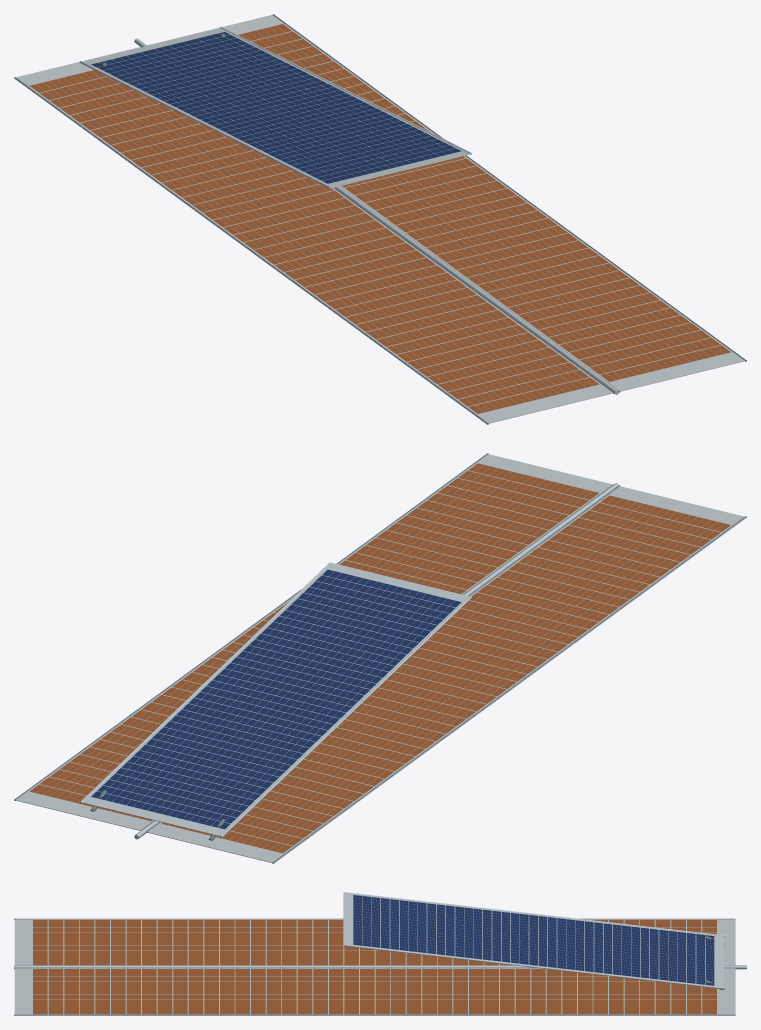
File: iss_arrays.p6_alpha_joint.wing_forward.glb
3 views of the same model, one above another, from view 1: azimuth 30°, elevation 25°; view 2: azimuth 150°, elevation 25°; view 3: azimuth 270°, elevation 25° (orthographic). The views are drawn at different scales.
Parts seen in each view (by area): view 1: iss_arrays.p6_alpha_joint.wing_forward.blanket_l.cells.mesh_ (×2), iss_arrays.p6_alpha_joint.wing_forward.blanket_r.cells.mesh_ (×2), iss_arrays.p6_alpha_joint.wing_forward.irosa.cells.mesh_Indi, iss_arrays.p6_alpha_joint.wing_forward.irosa.cells.mesh_Sati, iss_arrays.p6_alpha_joint.wing_forward.blanket_l.mesh_Machin, iss_arrays.p6_alpha_joint.wing_forward.mesh_Satin_aluminum, iss_arrays.p6_alpha_joint.wing_forward.irosa.mesh_Satin_alum, iss_arrays.p6_alpha_joint.wing_forward.blanket_r.mesh_Machin; view 2: iss_arrays.p6_alpha_joint.wing_forward.blanket_l.cells.mesh_ (×2), iss_arrays.p6_alpha_joint.wing_forward.irosa.cells.mesh_Indi, iss_arrays.p6_alpha_joint.wing_forward.blanket_r.cells.mesh_ (×2), iss_arrays.p6_alpha_joint.wing_forward.irosa.cells.mesh_Sati, iss_arrays.p6_alpha_joint.wing_forward.irosa.mesh_Satin_alum, iss_arrays.p6_alpha_joint.wing_forward.blanket_l.mesh_Machin, iss_arrays.p6_alpha_joint.wing_forward.blanket_r.mesh_Machin, iss_arrays.p6_alpha_joint.wing_forward.mesh_Satin_aluminum; view 3: iss_arrays.p6_alpha_joint.wing_forward.blanket_r.cells.mesh_ (×2), iss_arrays.p6_alpha_joint.wing_forward.blanket_l.cells.mesh_ (×2), iss_arrays.p6_alpha_joint.wing_forward.irosa.cells.mesh_Indi, iss_arrays.p6_alpha_joint.wing_forward.irosa.cells.mesh_Sati, iss_arrays.p6_alpha_joint.wing_forward.blanket_r.mesh_Machin, iss_arrays.p6_alpha_joint.wing_forward.irosa.mesh_Satin_alum, iss_arrays.p6_alpha_joint.wing_forward.mesh_Satin_aluminum, iss_arrays.p6_alpha_joint.wing_forward.blanket_l.mesh_Machin.
Boxes of the visible parts, box(x1,y1,x2,y2) form: iss_arrays.p6_alpha_joint.wing_forward.blanket_l.cells.mesh_ (×2): box(14, 47, 612, 424); iss_arrays.p6_alpha_joint.wing_forward.blanket_r.cells.mesh_ (×2): box(147, 14, 744, 391); iss_arrays.p6_alpha_joint.wing_forward.irosa.cells.mesh_Indi: box(91, 32, 461, 183); iss_arrays.p6_alpha_joint.wing_forward.irosa.cells.mesh_Sati: box(83, 28, 471, 188); iss_arrays.p6_alpha_joint.wing_forward.blanket_l.mesh_Machin: box(14, 46, 614, 424); iss_arrays.p6_alpha_joint.wing_forward.mesh_Satin_aluminum: box(134, 38, 619, 394); iss_arrays.p6_alpha_joint.wing_forward.irosa.mesh_Satin_alum: box(79, 26, 471, 188); iss_arrays.p6_alpha_joint.wing_forward.blanket_r.mesh_Machin: box(147, 14, 746, 392); iss_arrays.p6_alpha_joint.wing_forward.blanket_l.cells.mesh_ (×2): box(146, 486, 746, 863); iss_arrays.p6_alpha_joint.wing_forward.irosa.cells.mesh_Indi: box(91, 569, 461, 829); iss_arrays.p6_alpha_joint.wing_forward.blanket_r.cells.mesh_ (×2): box(14, 454, 612, 830); iss_arrays.p6_alpha_joint.wing_forward.irosa.cells.mesh_Sati: box(82, 562, 469, 836); iss_arrays.p6_alpha_joint.wing_forward.irosa.mesh_Satin_alum: box(79, 562, 471, 838); iss_arrays.p6_alpha_joint.wing_forward.blanket_l.mesh_Machin: box(146, 485, 746, 863); iss_arrays.p6_alpha_joint.wing_forward.blanket_r.mesh_Machin: box(14, 453, 613, 830); iss_arrays.p6_alpha_joint.wing_forward.mesh_Satin_aluminum: box(134, 483, 618, 839); iss_arrays.p6_alpha_joint.wing_forward.blanket_r.cells.mesh_ (×2): box(14, 968, 735, 1015); iss_arrays.p6_alpha_joint.wing_forward.blanket_l.cells.mesh_ (×2): box(14, 919, 735, 965); iss_arrays.p6_alpha_joint.wing_forward.irosa.cells.mesh_Indi: box(353, 895, 714, 985); iss_arrays.p6_alpha_joint.wing_forward.irosa.cells.mesh_Sati: box(343, 892, 723, 987); iss_arrays.p6_alpha_joint.wing_forward.blanket_r.mesh_Machin: box(14, 967, 735, 1015); iss_arrays.p6_alpha_joint.wing_forward.irosa.mesh_Satin_alum: box(344, 892, 725, 989); iss_arrays.p6_alpha_joint.wing_forward.mesh_Satin_aluminum: box(14, 965, 746, 969); iss_arrays.p6_alpha_joint.wing_forward.blanket_l.mesh_Machin: box(14, 918, 735, 919).
Size of the model in its own units: 10.98 by 2.7 by 35.15.
